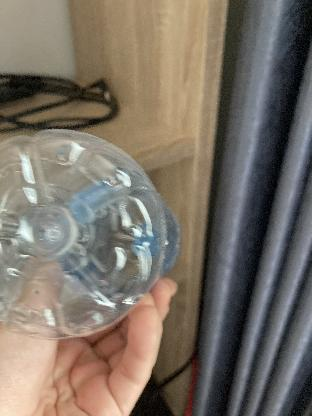Plastic Bottle: (0, 112, 186, 352)
